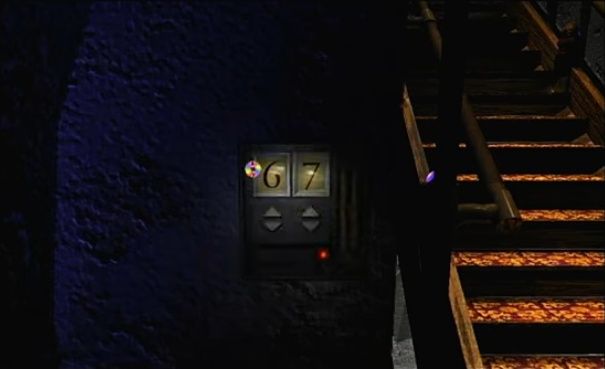Waiting: (242, 157, 265, 178)
